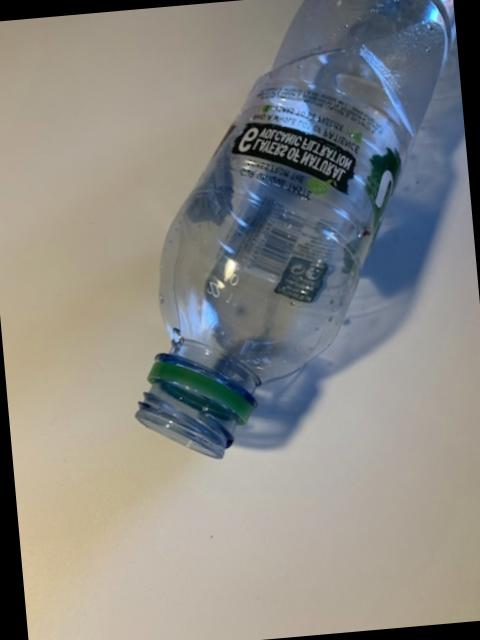plastic: (136, 0, 455, 453)
